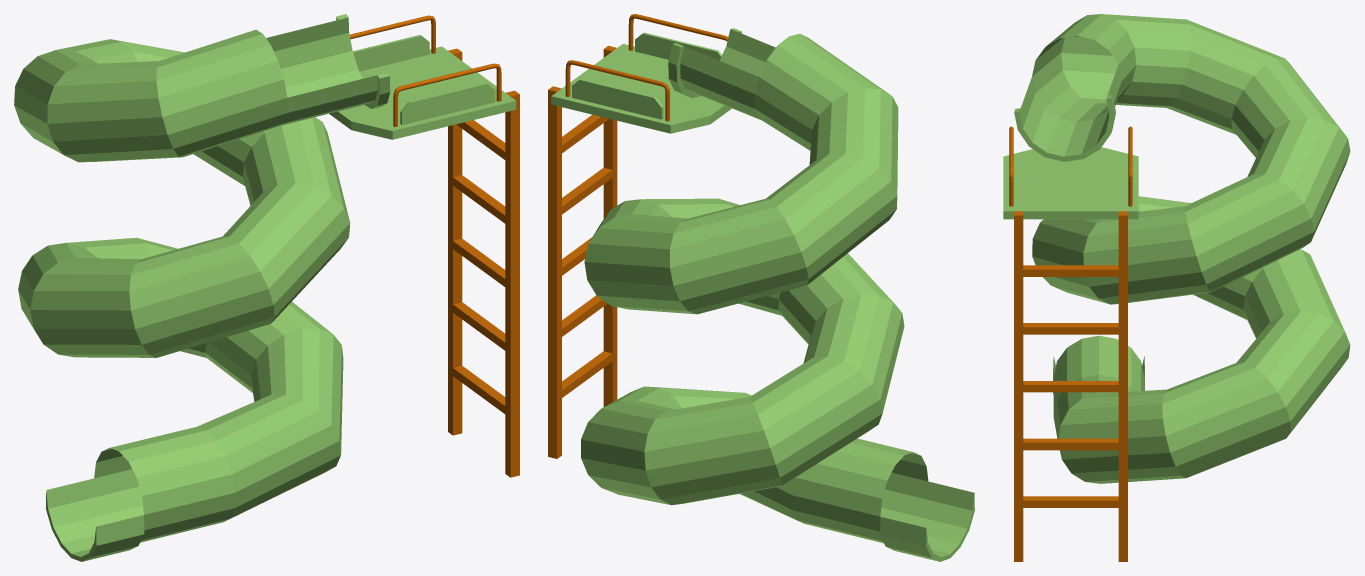
The model's file is SqueezedSlide.fbx.
3 views of the same model, side by side, from view 1: azimuth 30°, elevation 25°; view 2: azimuth 150°, elevation 25°; view 3: azimuth 270°, elevation 25° (orthographic). The views are drawn at different scales.
Visible parts, largest first — view 1: Circle, Cube.001, Cube, Cylinder.005; view 2: Circle, Cube.001, Cube, Cylinder.005; view 3: Circle, Cube.001, Cube, Cylinder.005.
Boxes of the visible parts, <box> form: Circle: <box>14,14,390,561</box>; Cube.001: <box>448,48,519,477</box>; Cube: <box>329,35,516,139</box>; Cylinder.005: <box>349,15,501,126</box>; Circle: <box>581,28,974,561</box>; Cube.001: <box>548,46,617,458</box>; Cube: <box>551,32,731,133</box>; Cylinder.005: <box>565,14,728,121</box>; Circle: <box>1014,14,1350,483</box>; Cube.001: <box>1014,211,1127,561</box>; Cube: <box>1003,147,1138,219</box>; Cylinder.005: <box>1009,126,1132,206</box>.
Bounding box in the file's own units: 135 × 157 × 111.
